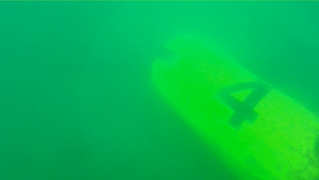4: (214, 80, 276, 130)
pipe: (149, 34, 319, 180)
